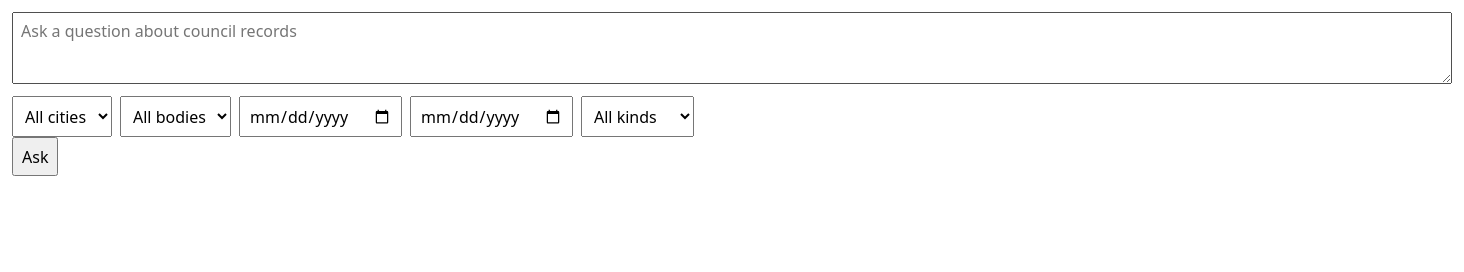
Test: renders the decline message and reason
Type "What about the airport runway?" into the text box with test id "ask-input" at (732, 48), box [12,12,1452,84]
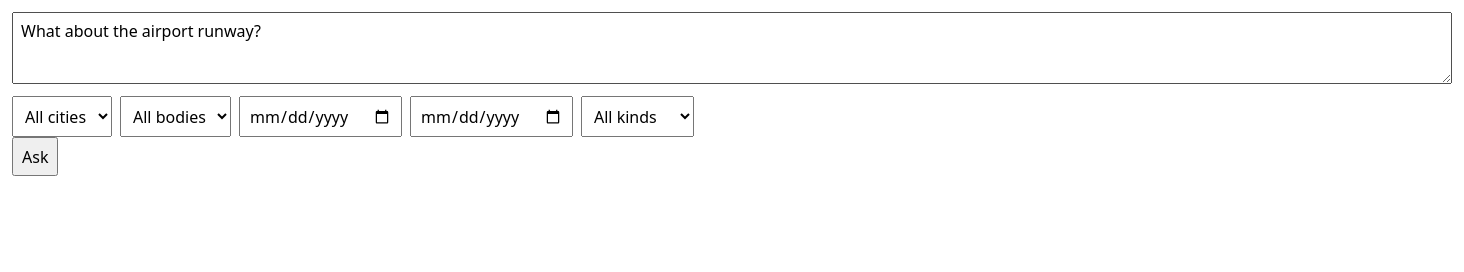
Click the button with test id "ask-submit" at (35, 157), box [12,137,58,176]
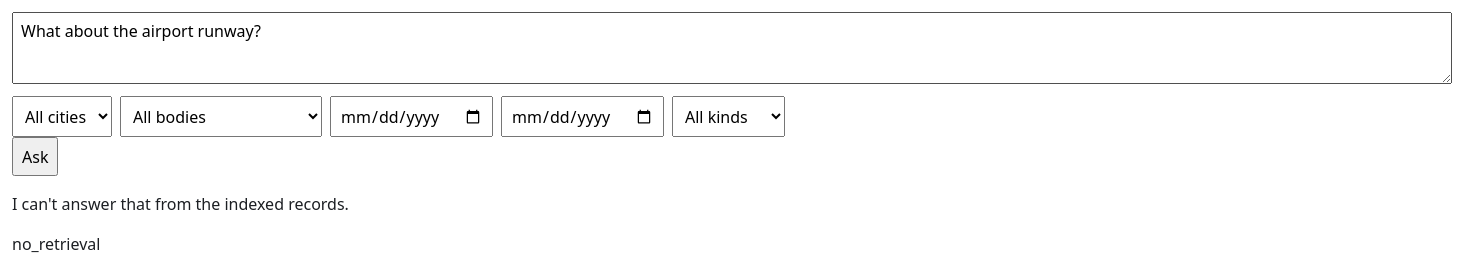
Now the text with test id "declined" reads "I can't answer that from the indexed records.", box [12,193,349,215]
Now the text with test id "decline-reason" reads "no_retrieval", box [12,233,100,255]
